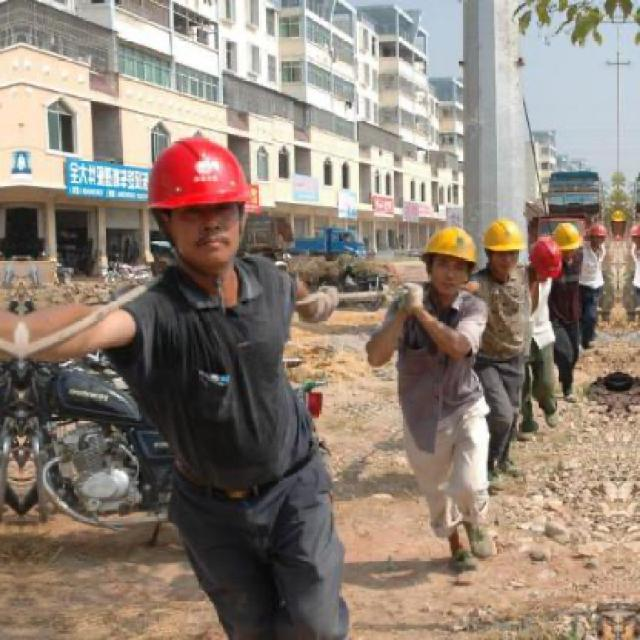con casco: (136, 128, 270, 304), (363, 229, 495, 301), (472, 212, 530, 275), (517, 220, 575, 266)
